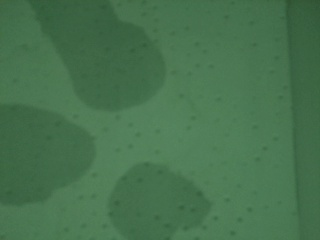Water_detected: (8, 9, 147, 170), (120, 175, 184, 229)
